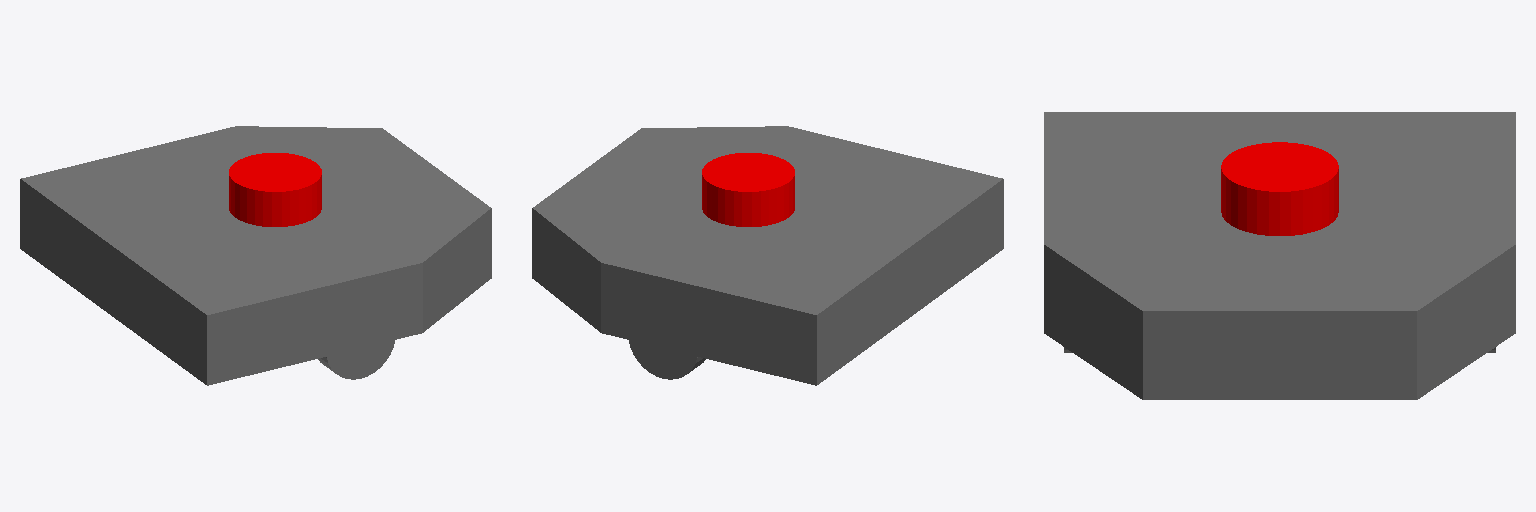
URDF robot description (robot_mino):
<?xml version="1.0" ?>
<!-- =================================================================================== -->
<!-- |    This document was autogenerated by xacro from urdf/robot_mino.urdf.xacro     | -->
<!-- |    EDITING THIS FILE BY HAND IS NOT RECOMMENDED                                 | -->
<!-- =================================================================================== -->
<robot name="robot_mino">
  <material name="dark_gray">
    <color rgba="0.5 0.5 0.5 1"/>
  </material>
  <material name="red">
    <color rgba="1.0 0.0 0.0 1"/>
  </material>
  <link name="base_footprint"/>
  <link name="base_link">
    <visual>
      <geometry>
        <mesh filename="package://robot_mino_control/mesh/base_hexagon.stl" scale="1 1 1"/>
      </geometry>
      <material name="dark_gray"/>
    </visual>
    <collision>
      <!-- Disederhanakan jadi box (bounding box hexagon) supaya collision-check
           Nav2/costmap tetap ringan; footprint aktual utk Nav2 tetap diatur
           terpisah sbg polygon di nav2_params.yaml. -->
      <geometry>
        <box size="0.24 0.24 0.05"/>
      </geometry>
    </collision>
    <inertial>
      <mass value="1.8"/>
      <!-- [UKUR ULANG] massa total kemungkinan berubah krn bentuk plat baru -->
      <inertia ixx="0.015" ixy="0" ixz="0" iyy="0.015" iyz="0" izz="0.02"/>
    </inertial>
  </link>
  <joint name="base_footprint_joint" type="fixed">
    <parent link="base_footprint"/>
    <child link="base_link"/>
    <origin rpy="0 0 0" xyz="0 0 0.026"/>
  </joint>
  <link name="left_wheel_link">
    <visual>
      <origin rpy="1.5707963267948966 0 0" xyz="0 0 0"/>
      <geometry>
        <cylinder length="0.02" radius="0.026"/>
      </geometry>
      <material name="dark_gray"/>
    </visual>
    <collision>
      <origin rpy="1.5707963267948966 0 0" xyz="0 0 0"/>
      <geometry>
        <cylinder length="0.02" radius="0.026"/>
      </geometry>
    </collision>
    <inertial>
      <mass value="0.05"/>
      <inertia ixx="0.0001" ixy="0" ixz="0" iyy="0.0001" iyz="0" izz="0.0001"/>
    </inertial>
  </link>
  <joint name="left_wheel_joint" type="continuous">
    <parent link="base_link"/>
    <child link="left_wheel_link"/>
    <origin rpy="0 0 0" xyz="0 0.1 -0.026"/>
    <axis xyz="0 1 0"/>
  </joint>
  <link name="right_wheel_link">
    <visual>
      <origin rpy="1.5707963267948966 0 0" xyz="0 0 0"/>
      <geometry>
        <cylinder length="0.02" radius="0.026"/>
      </geometry>
      <material name="dark_gray"/>
    </visual>
    <collision>
      <origin rpy="1.5707963267948966 0 0" xyz="0 0 0"/>
      <geometry>
        <cylinder length="0.02" radius="0.026"/>
      </geometry>
    </collision>
    <inertial>
      <mass value="0.05"/>
      <inertia ixx="0.0001" ixy="0" ixz="0" iyy="0.0001" iyz="0" izz="0.0001"/>
    </inertial>
  </link>
  <joint name="right_wheel_joint" type="continuous">
    <parent link="base_link"/>
    <child link="right_wheel_link"/>
    <origin rpy="0 0 0" xyz="0 -0.1 -0.026"/>
    <axis xyz="0 1 0"/>
  </joint>
  <link name="imu_link"/>
  <joint name="imu_joint" type="fixed">
    <parent link="base_link"/>
    <child link="imu_link"/>
    <origin rpy="0 0 0" xyz="0 0 0.02"/>
  </joint>
  <!-- Lidar TEPAT DI TENGAH, warna MERAH -->
  <link name="lidar_link">
    <visual>
      <geometry>
        <cylinder length="0.025" radius="0.03"/>
      </geometry>
      <material name="red"/>
    </visual>
    <collision>
      <geometry>
        <cylinder length="0.025" radius="0.03"/>
      </geometry>
    </collision>
    <inertial>
      <mass value="0.1"/>
      <inertia ixx="0.0001" ixy="0" ixz="0" iyy="0.0001" iyz="0" izz="0.0001"/>
    </inertial>
  </link>
  <joint name="lidar_joint" type="fixed">
    <parent link="base_link"/>
    <child link="lidar_link"/>
    <!-- x=0 y=0 karena lidar di pusat. z & yaw dikurangi 1.5708 (putar 90 derajat kanan) -->
    <origin rpy="0 0 3.14159" xyz="0 0 0.0375"/>
  </joint>
  <ros2_control name="RobotMinoSystem" type="system">
    <hardware>
      <plugin>topic_based_ros2_control/TopicBasedSystem</plugin>
      <param name="joint_commands_topic">/topic_based_joint_commands</param>
      <param name="joint_states_topic">/topic_based_joint_states</param>
      <param name="trigger_joint_command_threshold">-1</param>
    </hardware>
    <joint name="left_wheel_joint">
      <command_interface name="velocity"/>
      <state_interface name="position"/>
      <state_interface name="velocity"/>
    </joint>
    <joint name="right_wheel_joint">
      <command_interface name="velocity"/>
      <state_interface name="position"/>
      <state_interface name="velocity"/>
    </joint>
  </ros2_control>
</robot>

--- Facts derived from the render (not from the file) ---
Views: 3 orthographic renders of the robot side by side, from view 1: azimuth 30°, elevation 25°; view 2: azimuth 150°, elevation 25°; view 3: azimuth 270°, elevation 25°.
Robot: robot_mino — 6 links, 5 joints (2 continuous, 3 fixed); root link base_footprint; default pose: every joint at zero.
Links seen in each view (by area): view 1: base_link, lidar_link, right_wheel_link; view 2: base_link, lidar_link, left_wheel_link; view 3: base_link, lidar_link.
Link boxes in pixels (box(x1,y1,x2,y2)): base_link: box(20, 126, 491, 385); lidar_link: box(229, 153, 321, 226); right_wheel_link: box(318, 340, 394, 379); base_link: box(532, 126, 1003, 385); lidar_link: box(702, 153, 794, 226); left_wheel_link: box(629, 340, 705, 379); base_link: box(1044, 112, 1515, 399); lidar_link: box(1221, 142, 1338, 235).
Size in the robot's own frame: 0.24 by 0.24 by 0.102 metres.
1 mesh visuals loaded from 1 distinct referenced files (1 ASCII STL).
